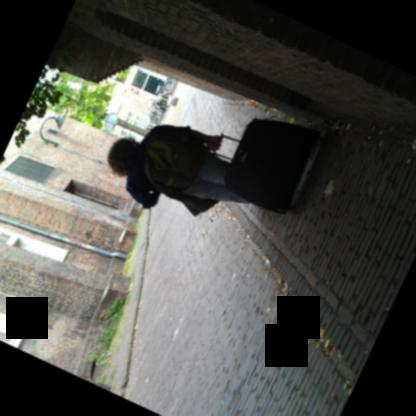backpack: (140, 129, 206, 196)
handbag: (147, 185, 219, 216)
suitcase: (211, 114, 328, 217)
